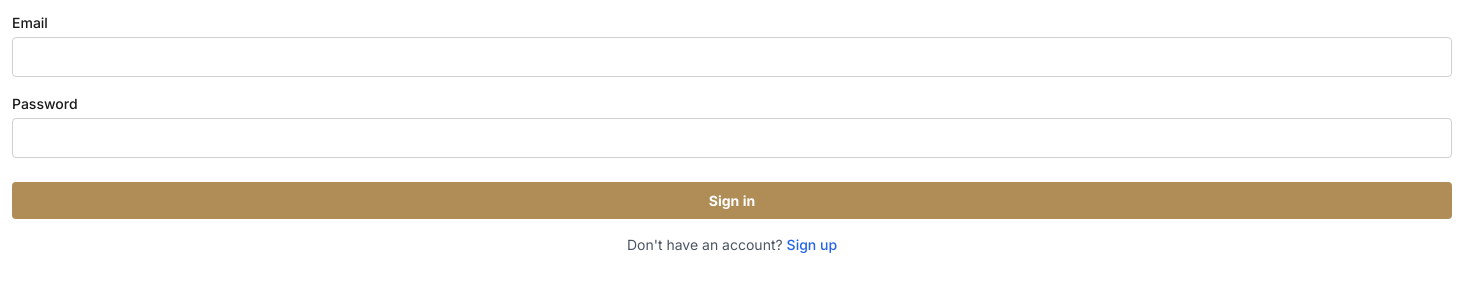
Test: LoginForm › shows password required error on submit with empty password
Type "user@example.com" into the field labelled "Email". click: (732, 57)
box: [12,37,1452,77]
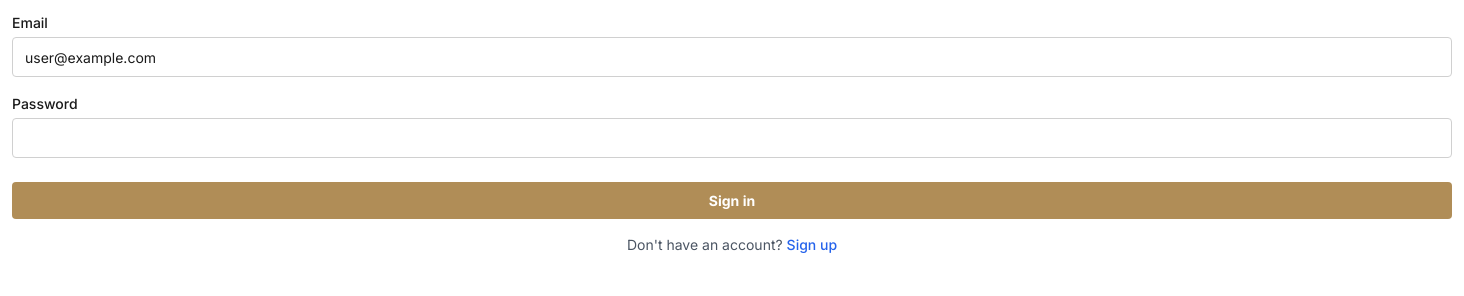
Click the button "Sign in". click: (732, 200)
box: [12,182,1452,219]
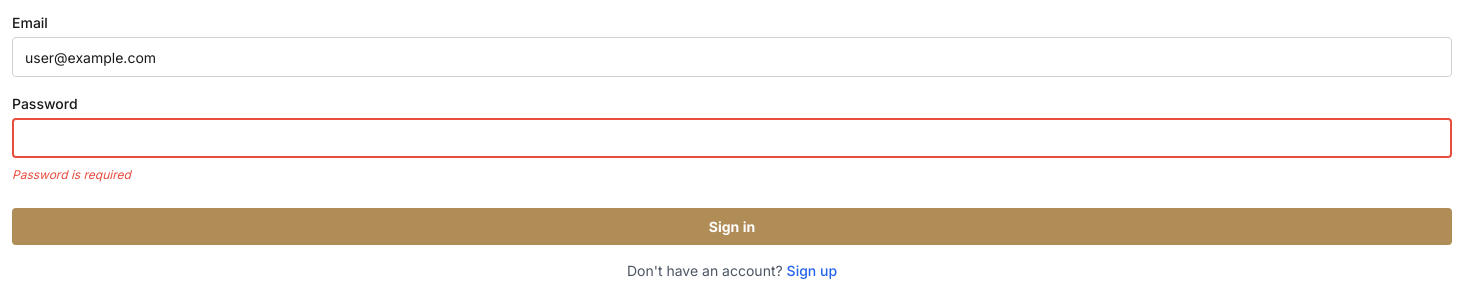
Expected: the text "Password is required" is shown, [12,167,131,182]
